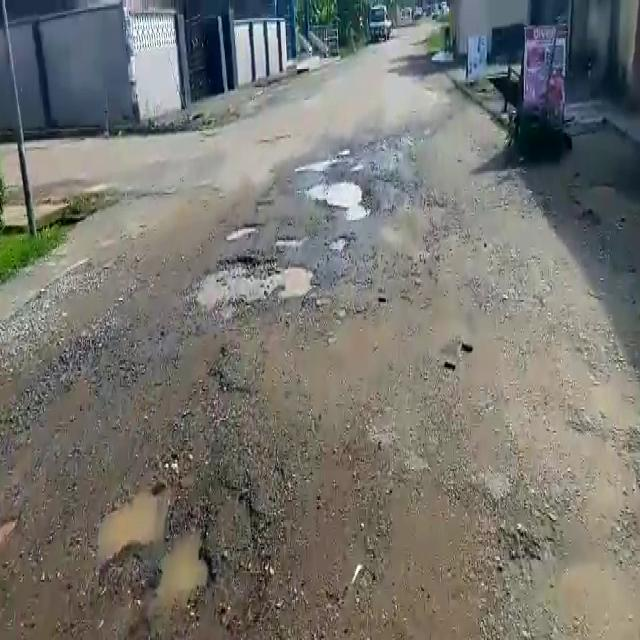Pothole: (96, 494, 214, 603), (185, 252, 307, 311), (304, 176, 369, 213), (293, 154, 339, 174), (225, 224, 261, 242), (272, 232, 310, 248)
